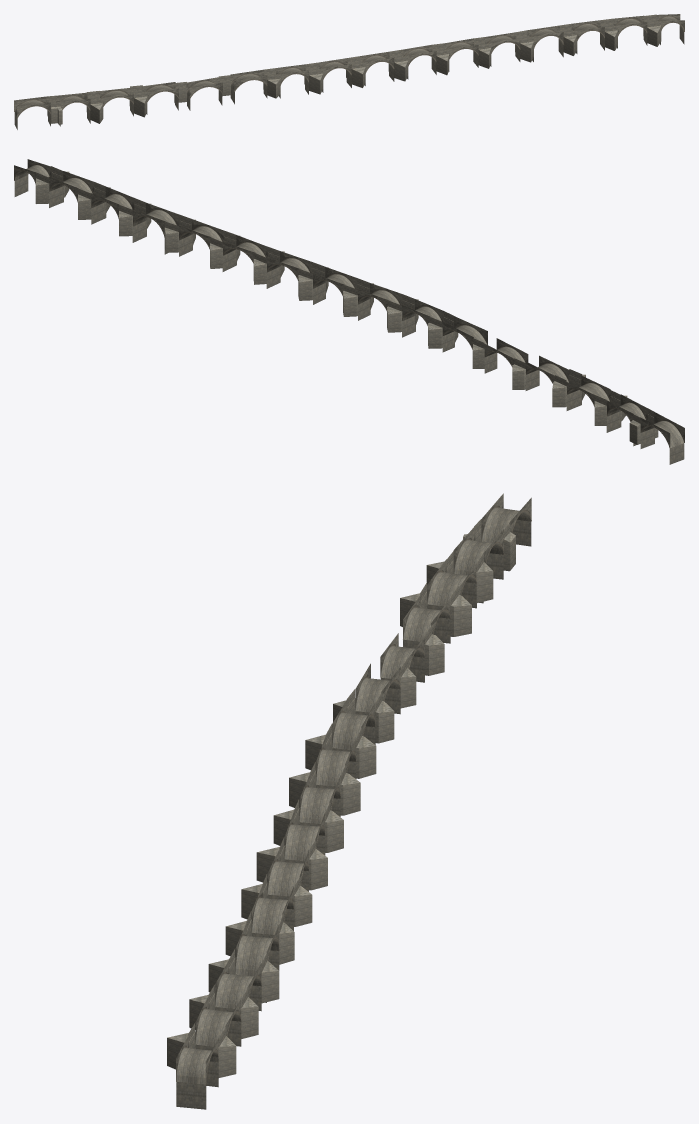
The model's file is charles-arches.glb.
3 views of the same model, one above another, from view 1: azimuth 30°, elevation 25°; view 2: azimuth 150°, elevation 25°; view 3: azimuth 270°, elevation 25° (orthographic). The views are drawn at different scales.
Parts seen in each view (by area): view 1: Charles Bridge — vaults 9–12, Charles Bridge — vaults 5–8, Charles Bridge — vaults 13–16, Charles Bridge — vaults 1–4; view 2: Charles Bridge — vaults 9–12, Charles Bridge — vaults 5–8, Charles Bridge — vaults 1–4, Charles Bridge — vaults 13–16; view 3: Charles Bridge — vaults 9–12, Charles Bridge — vaults 13–16, Charles Bridge — vaults 5–8, Charles Bridge — vaults 1–4.
Part boxes in pixels (<box>): Charles Bridge — vaults 9–12: <box>346,30,533,85</box>; Charles Bridge — vaults 5–8: <box>174,58,365,110</box>; Charles Bridge — vaults 13–16: <box>527,14,684,61</box>; Charles Bridge — vaults 1–4: <box>14,82,178,129</box>; Charles Bridge — vaults 9–12: <box>164,214,357,316</box>; Charles Bridge — vaults 5–8: <box>357,278,528,389</box>; Charles Bridge — vaults 1–4: <box>525,355,684,464</box>; Charles Bridge — vaults 13–16: <box>14,159,179,254</box>; Charles Bridge — vaults 9–12: <box>225,764,360,964</box>; Charles Bridge — vaults 13–16: <box>167,922,279,1109</box>; Charles Bridge — vaults 5–8: <box>289,625,444,807</box>; Charles Bridge — vaults 1–4: <box>400,493,531,648</box>.
Size of the model in its own units: 469 by 23.51 by 126.
1 material, 1 textured.
